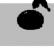not correct: (16, 0, 51, 30)
